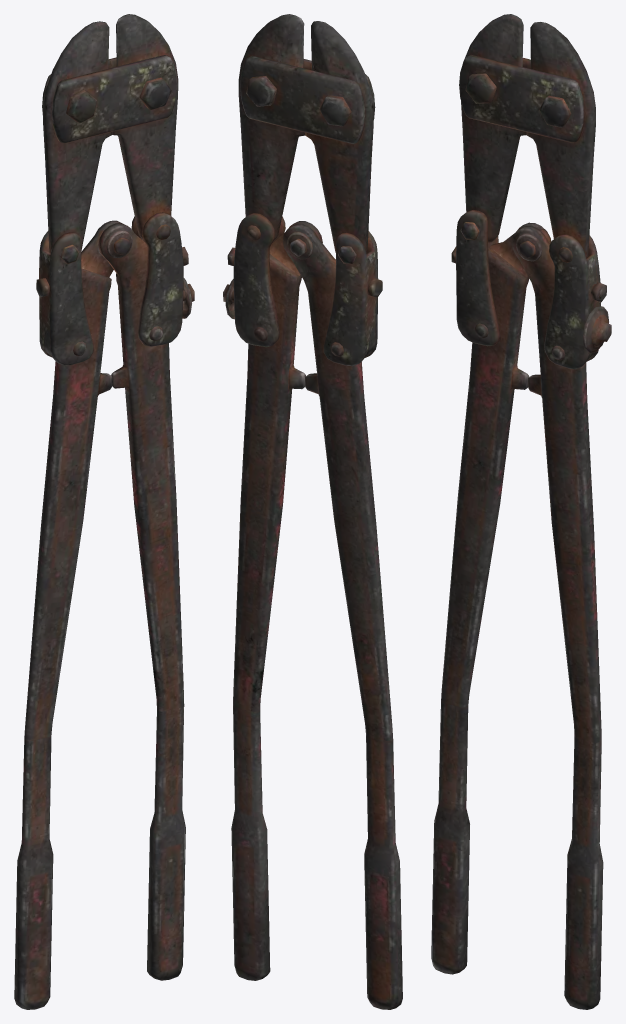
File: bolt_cutters_01.glb
The picture shows the model from 3 angles, left to right: view 1: azimuth 30°, elevation 25°; view 2: azimuth 150°, elevation 25°; view 3: azimuth 330°, elevation 25°; orthographic projection.
Parts seen in each view (by area): view 1: bolt_cutters_01; view 2: bolt_cutters_01; view 3: bolt_cutters_01.
Part boxes in pixels (<box>): bolt_cutters_01: <box>14,14,194,1009</box>; bolt_cutters_01: <box>223,14,402,1009</box>; bolt_cutters_01: <box>431,14,611,1009</box>.
Size of the model in its own units: 0.151 by 0.8026 by 0.036.
1 material, 1 textured.
